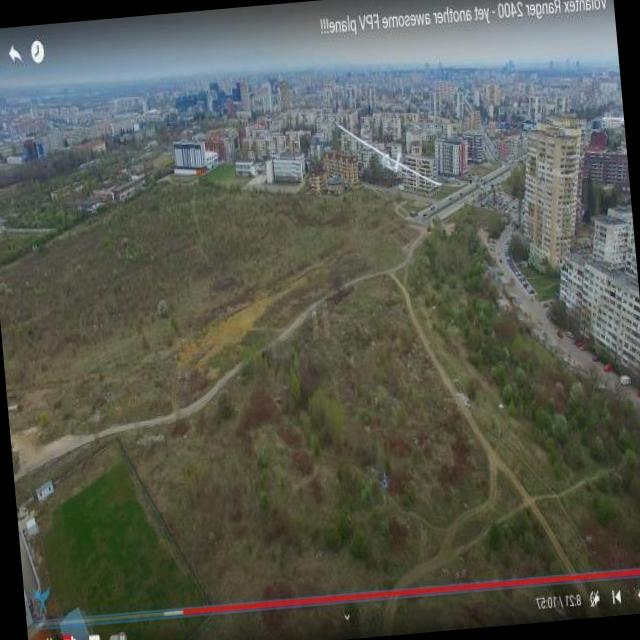UAV: (342, 107, 442, 216)
